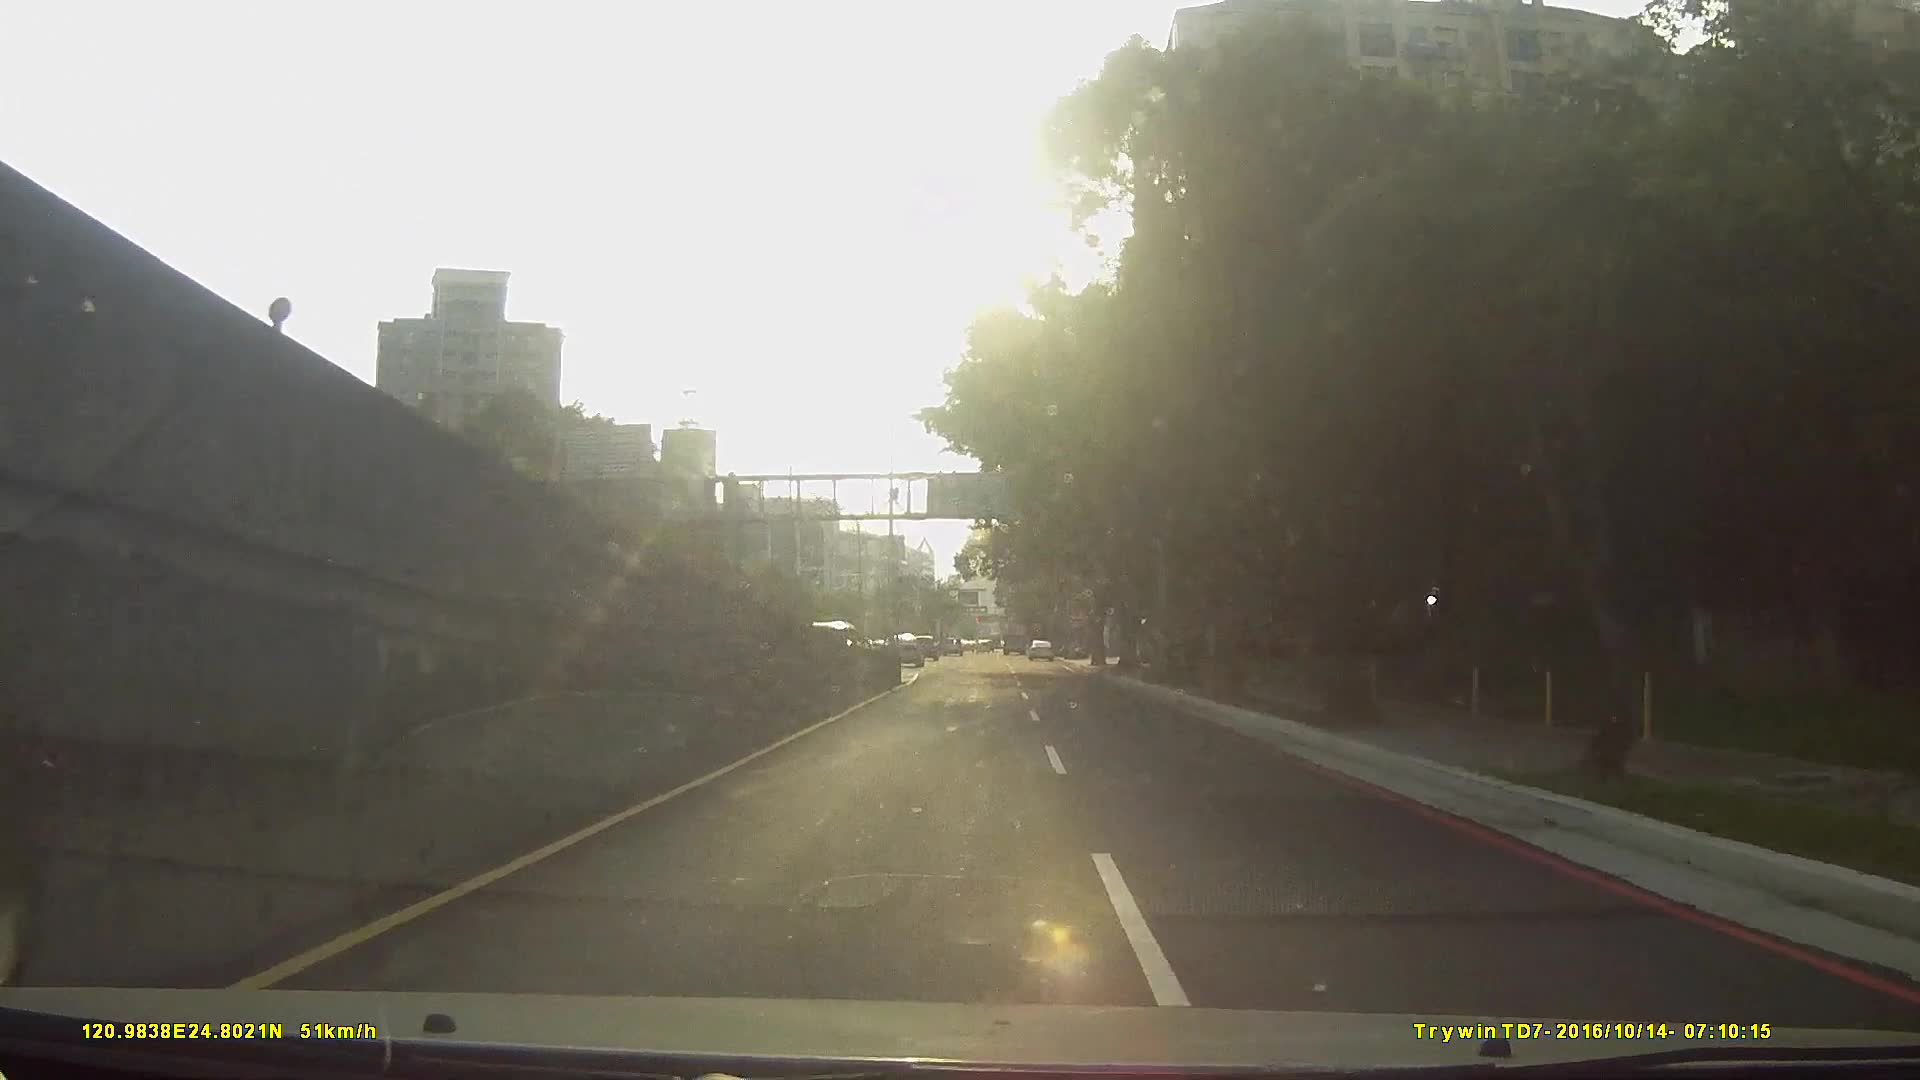vehicle: (880, 630, 924, 666), (1002, 617, 1027, 653), (1025, 636, 1054, 659)
